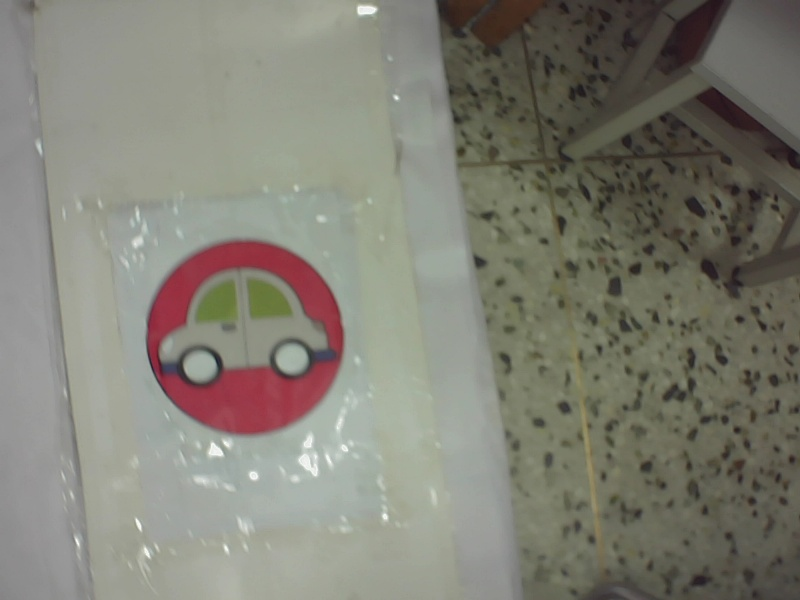areaC: (137, 229, 359, 451)
